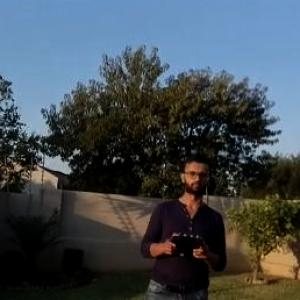follow: (132, 141, 234, 299)
